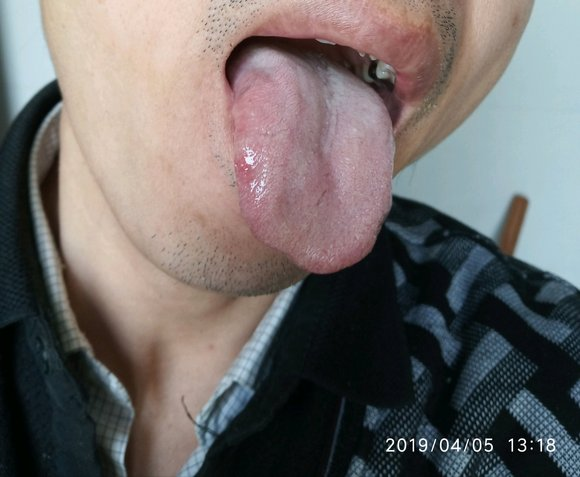baitaishe: (231, 40, 396, 273)
